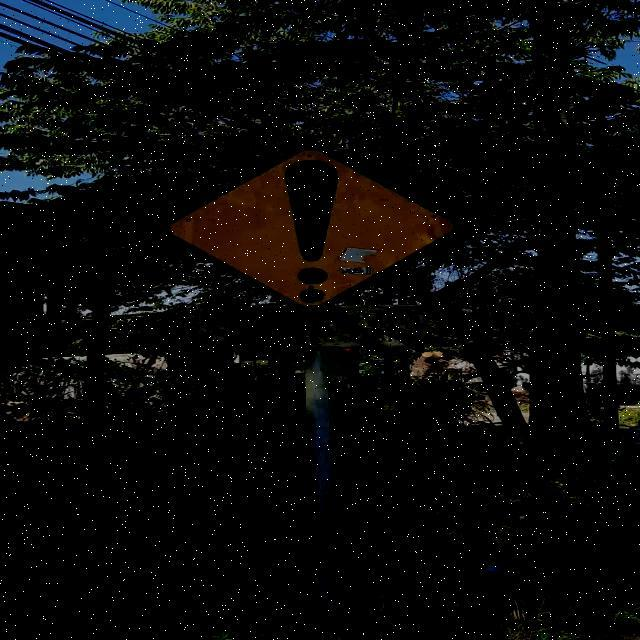Hati-Hati: (160, 143, 467, 304)
